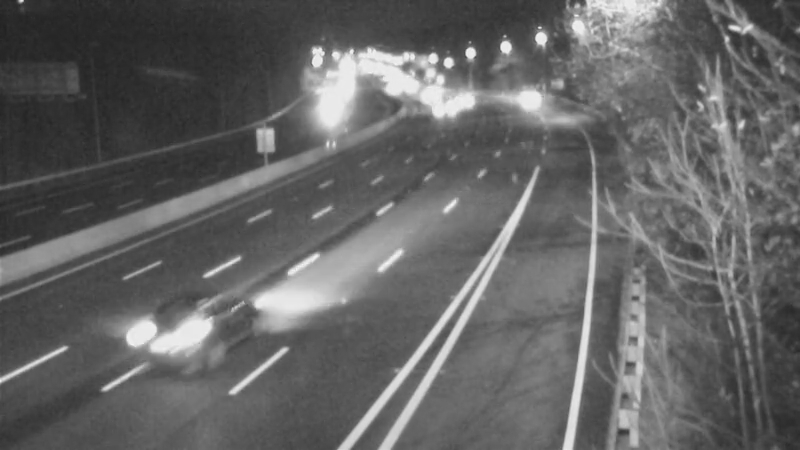vehicle: (121, 278, 231, 388), (500, 75, 550, 125), (402, 69, 452, 119), (438, 75, 488, 125), (412, 85, 462, 135)
